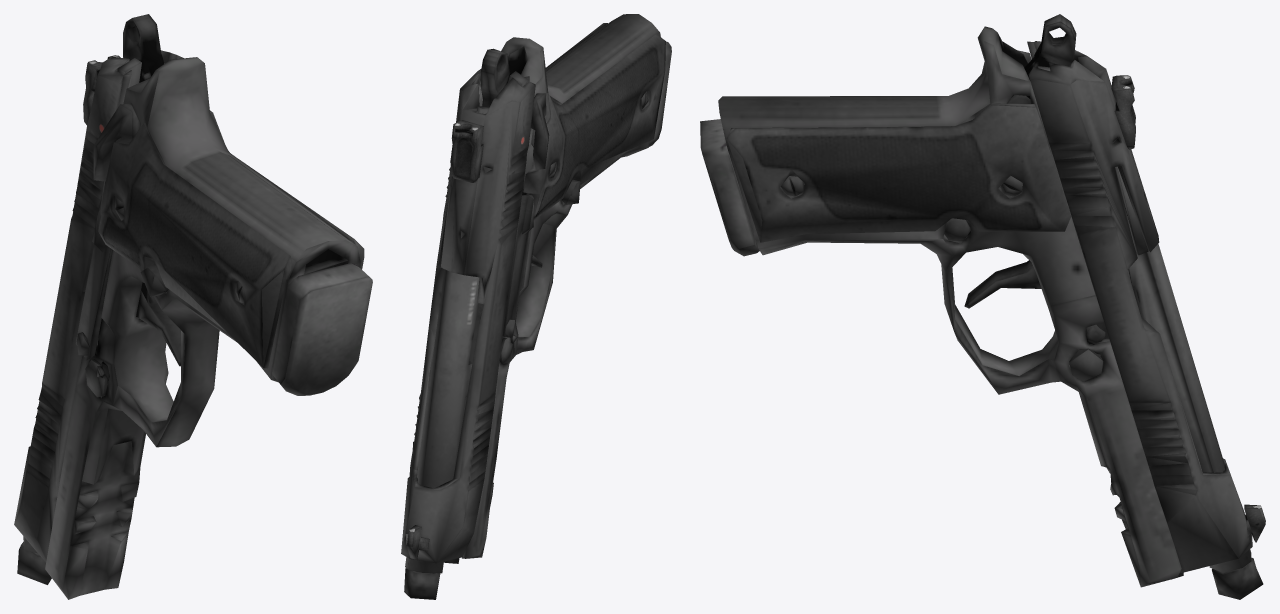
The model's file is Handgun03Melee.fbx.
3 views of the same model, side by side, from view 1: azimuth 30°, elevation 25°; view 2: azimuth 150°, elevation 25°; view 3: azimuth 270°, elevation 25° (orthographic). The views are drawn at different scales.
Parts seen in each view (by area): view 1: Handgun03; view 2: Handgun03; view 3: Handgun03.
Boxes of the visible parts, x1,y1,x2,y2 form: Handgun03: [14, 14, 372, 599]; Handgun03: [401, 14, 671, 599]; Handgun03: [700, 14, 1265, 599].
Bounding box in the file's own units: 0.0313 × 0.1736 × 0.1536.
